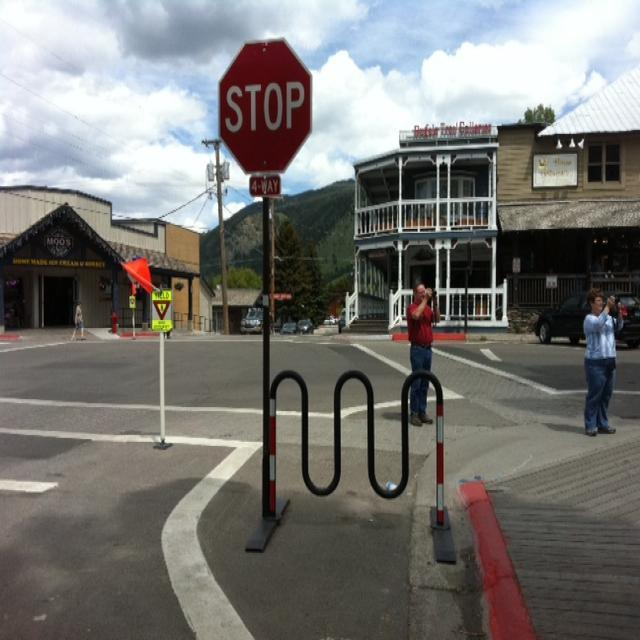fire_hydrant: (110, 310, 119, 332)
